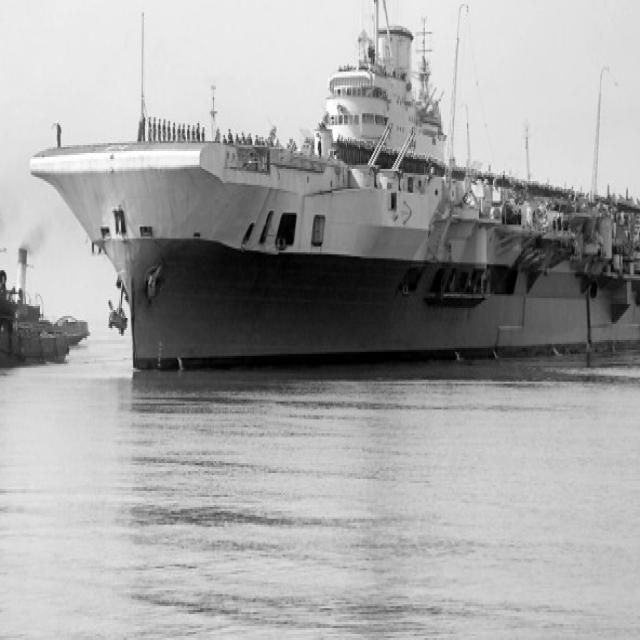Portanaves: (27, 1, 640, 383)
